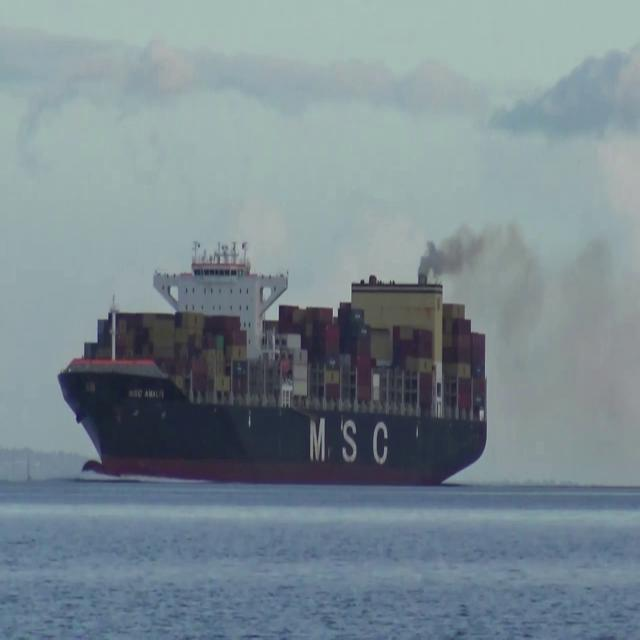OCR: (302, 408, 393, 475)
